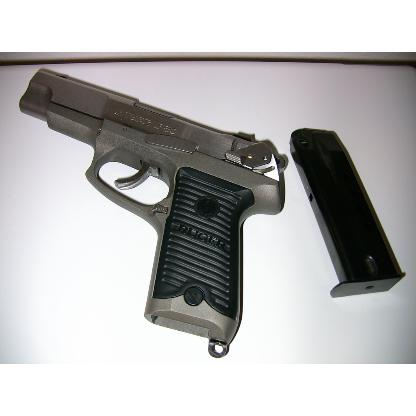gun: (18, 66, 288, 358)
